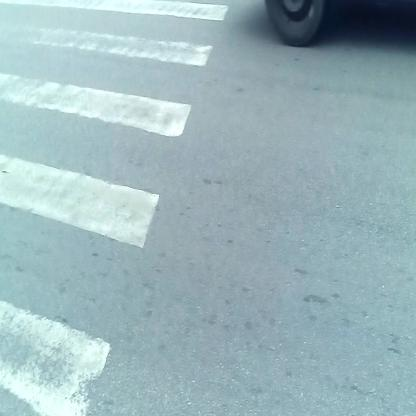crosswalk: (1, 11, 232, 416)
